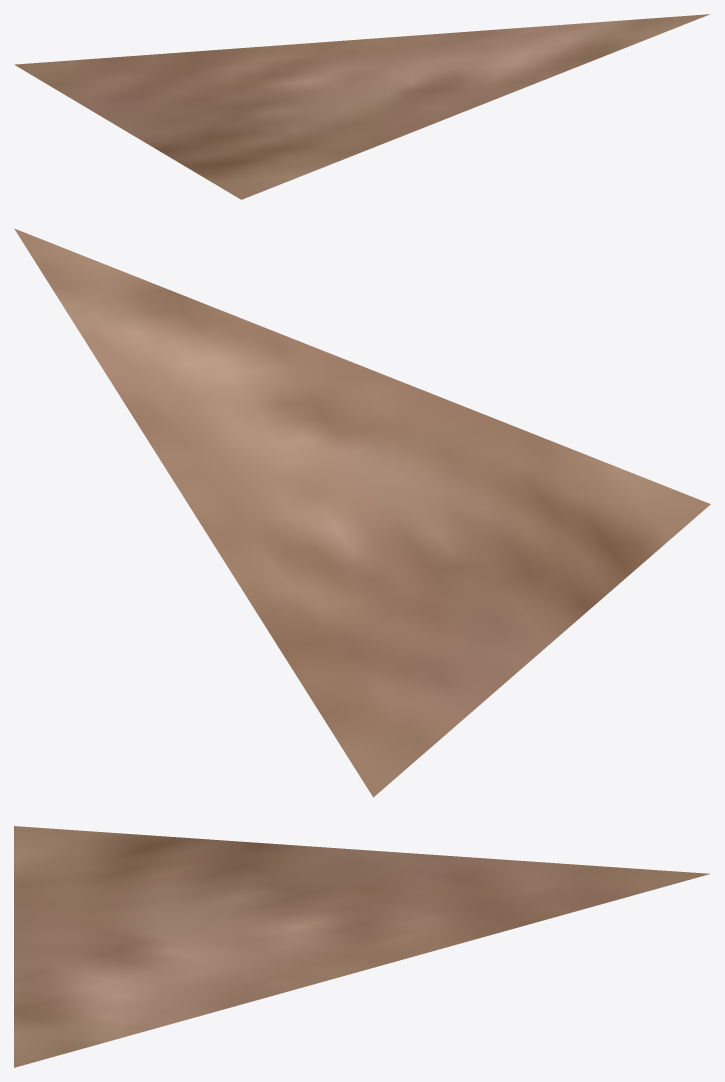
3 renders of one model, top to bottom at view 1: azimuth 30°, elevation 25°; view 2: azimuth 150°, elevation 25°; view 3: azimuth 270°, elevation 25°, orthographic. The views are drawn at different scales.
Bounding box in the file's own units: 0.2068 × 0.0431 × 0.1735.
1 material, 1 textured.
